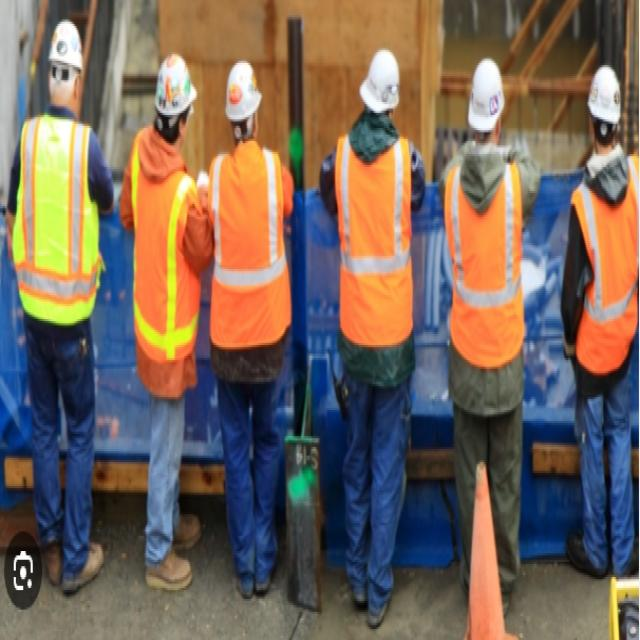boots: (143, 495, 205, 602), (37, 524, 107, 597), (564, 519, 638, 578), (346, 548, 398, 631), (456, 552, 518, 620), (228, 539, 282, 600)
helmet: (357, 31, 404, 128), (151, 49, 199, 139), (46, 13, 84, 112), (466, 52, 507, 141), (224, 56, 264, 143), (585, 63, 624, 141)
vest: (9, 108, 107, 331), (331, 121, 418, 351), (202, 143, 293, 360), (442, 154, 531, 372), (128, 120, 204, 372), (568, 143, 640, 378)
